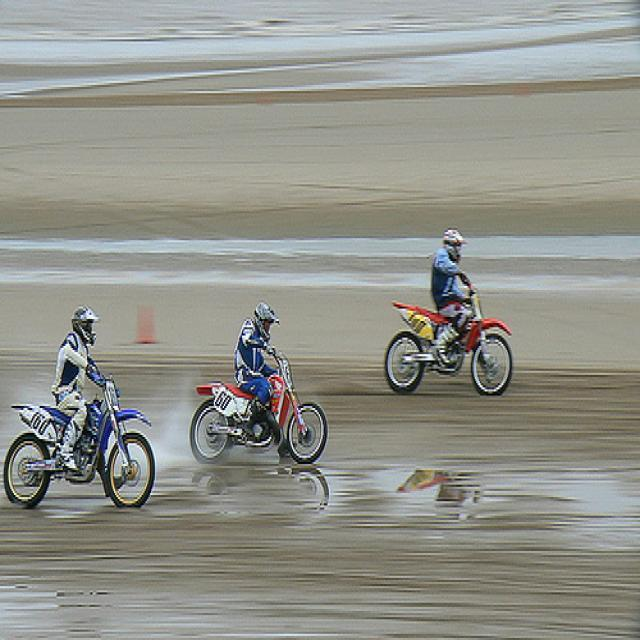motorcycle: (1, 375, 156, 509), (187, 352, 337, 468), (381, 289, 515, 394)
